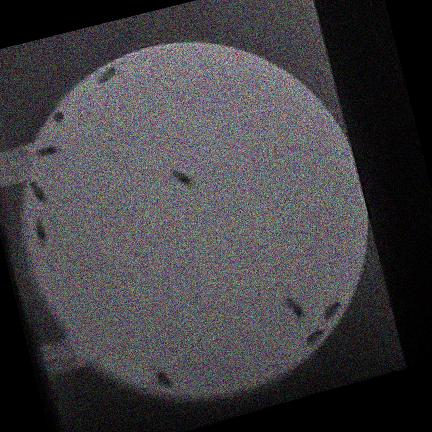fly: (287, 296, 306, 319), (30, 181, 46, 203), (156, 369, 174, 388), (98, 67, 119, 83), (35, 219, 47, 245), (173, 171, 193, 186), (308, 329, 325, 346), (36, 145, 60, 157), (325, 301, 341, 319), (53, 112, 64, 123)
